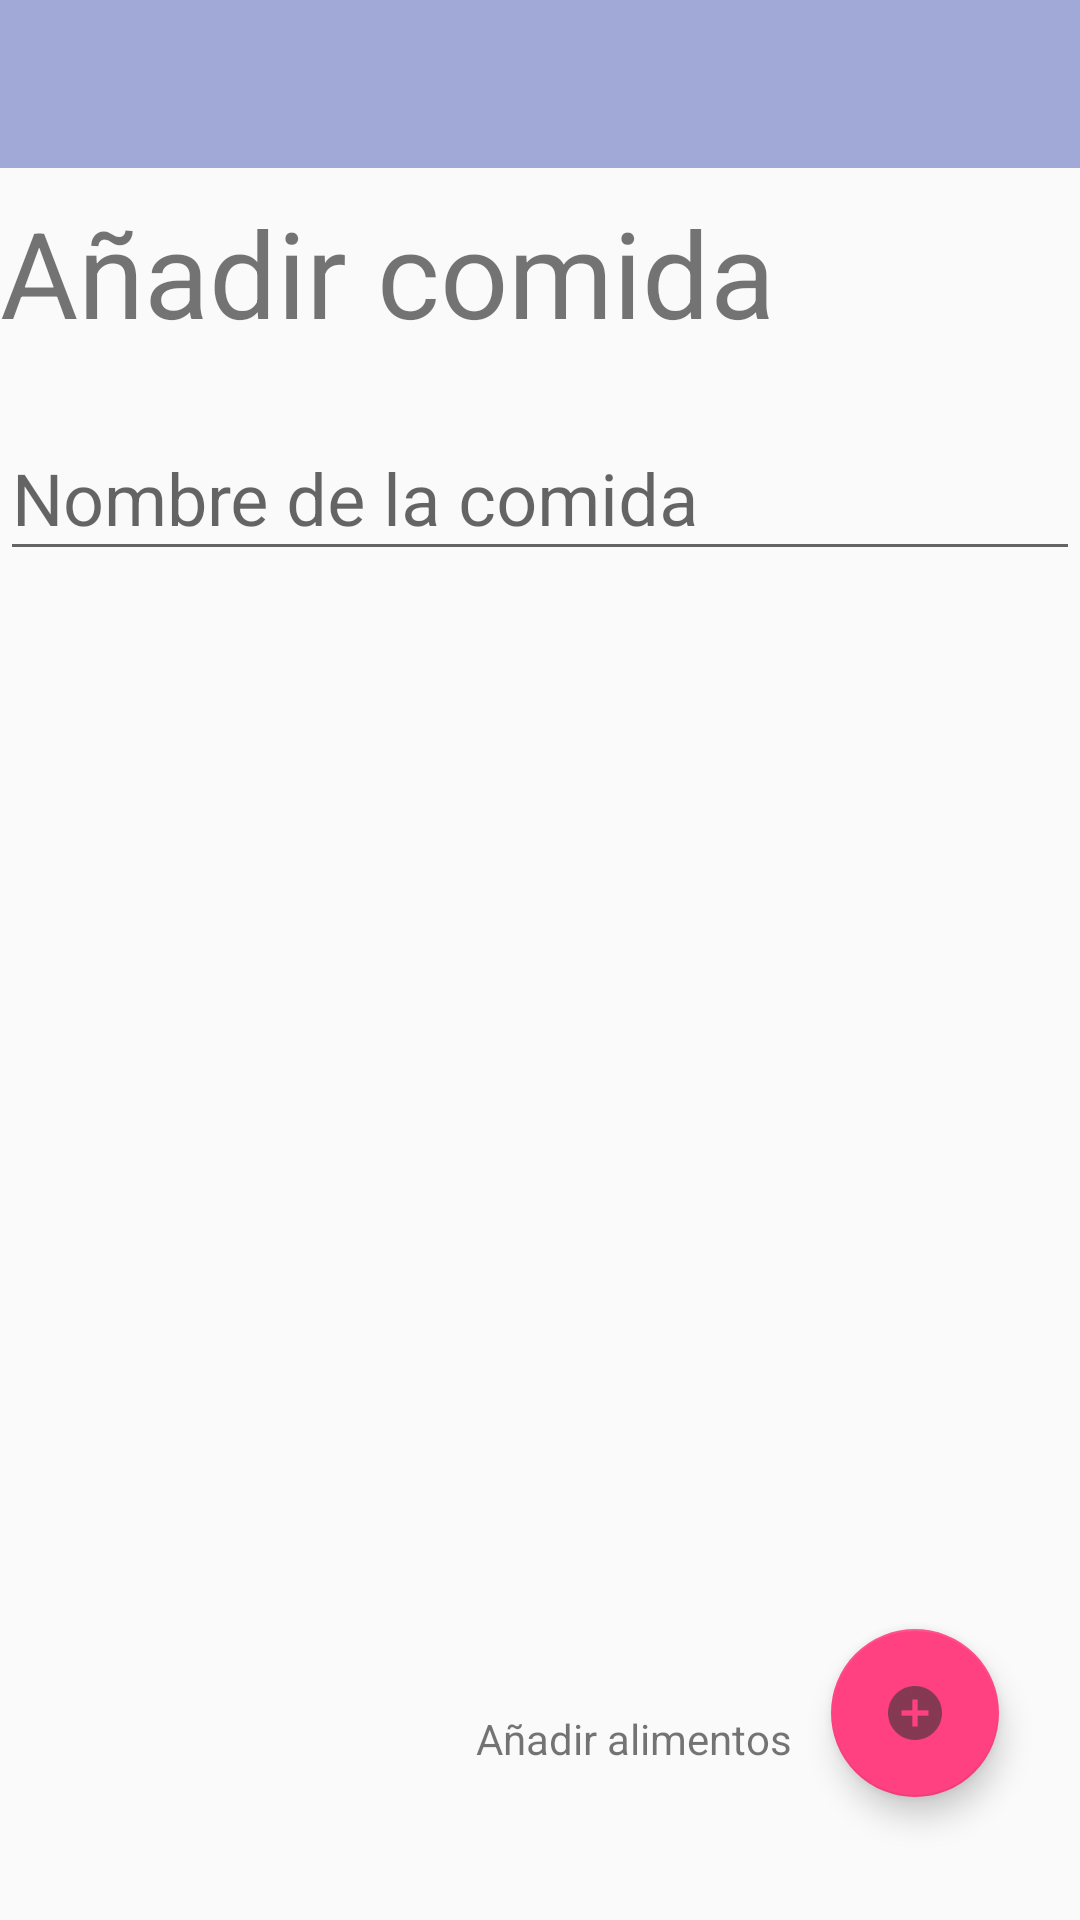

Where to tap for icons on this 1080px x 1920px app screen, as [x,y]:
anadir: [915,1713]
